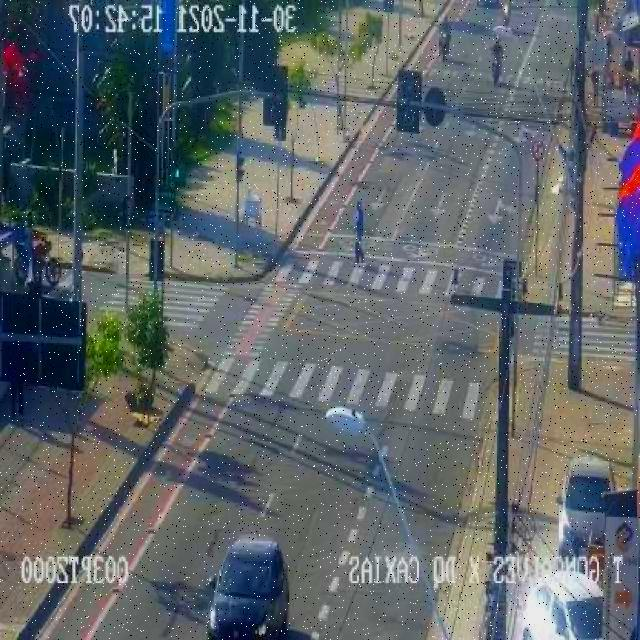Car: (207, 536, 292, 640), (554, 452, 620, 560), (519, 568, 607, 640)
Cycle: (10, 238, 64, 286), (490, 50, 504, 84), (438, 30, 452, 64)
